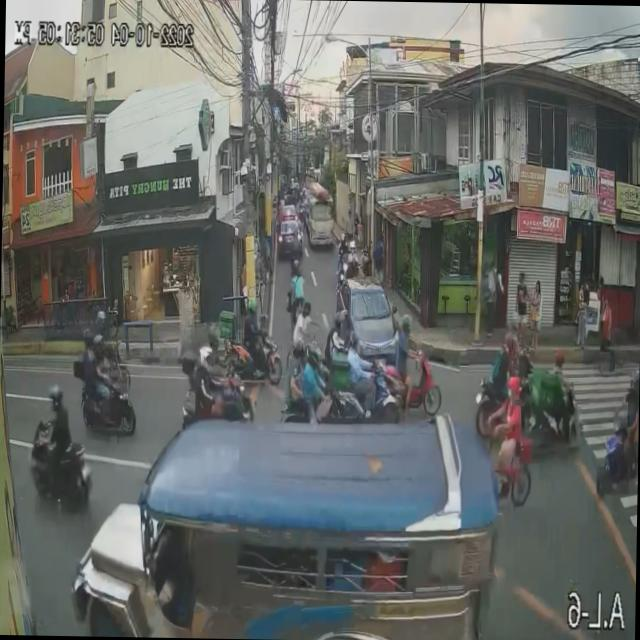full: (306, 338, 322, 369), (198, 345, 214, 371), (47, 386, 64, 410), (628, 369, 640, 400), (332, 309, 346, 334), (92, 333, 105, 359), (502, 329, 516, 352), (81, 328, 92, 351), (402, 312, 412, 334)
half: (291, 334, 305, 359), (207, 324, 222, 347), (554, 348, 566, 370)
